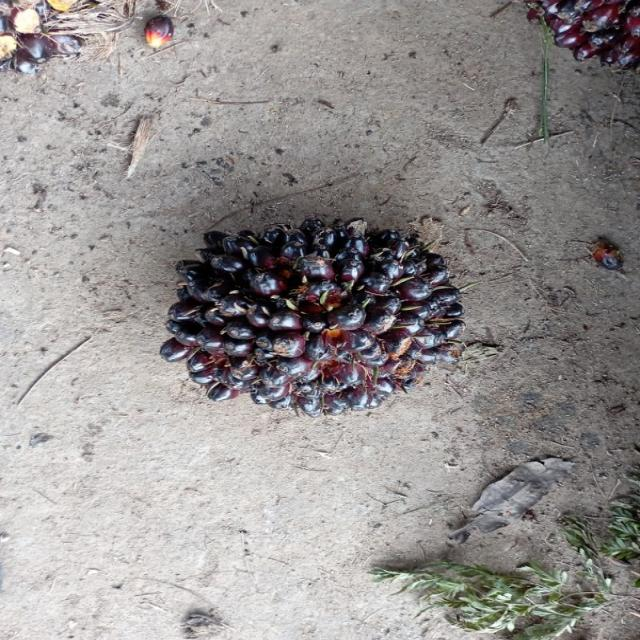fraksi 00: (157, 216, 478, 418)
